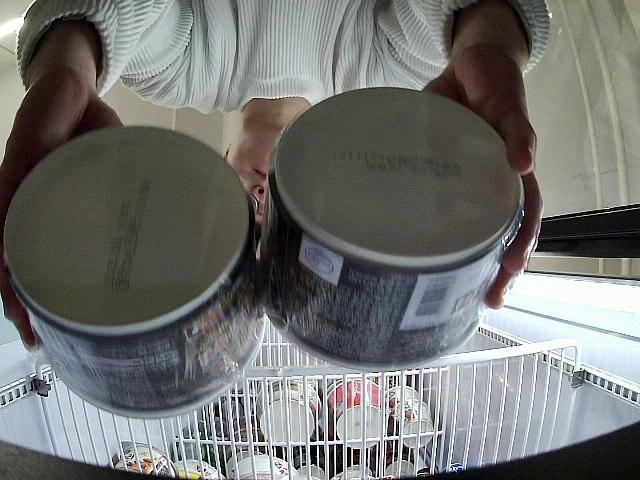07_buldak_L: (1, 123, 268, 420), (257, 86, 526, 372)
